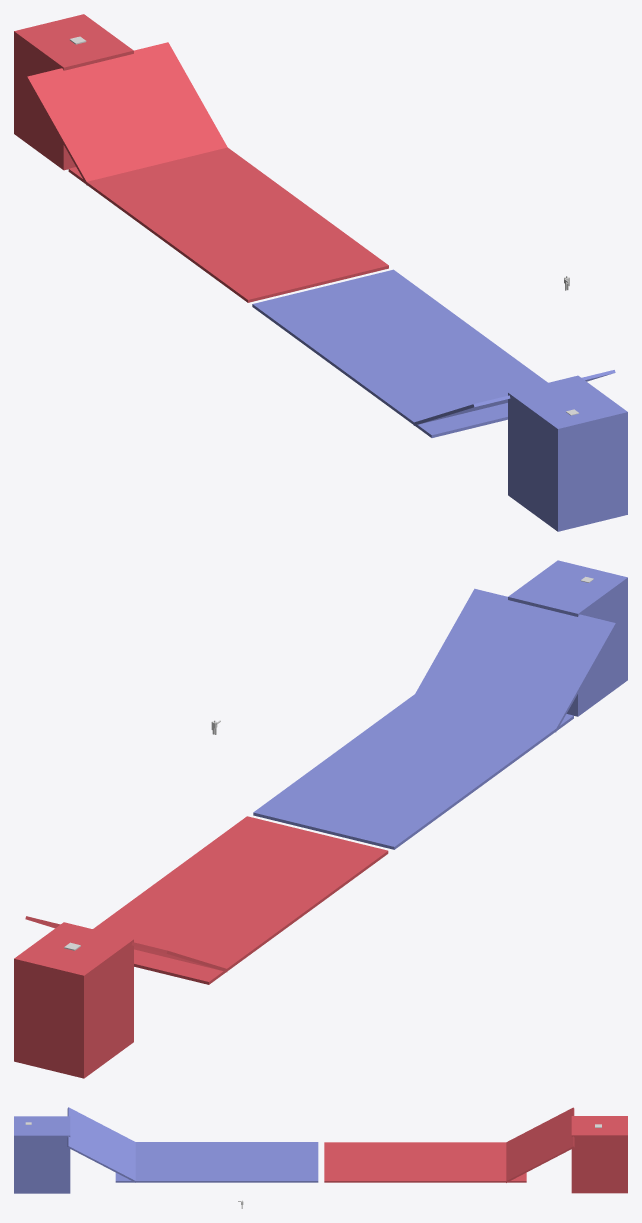
Rendered from LevelTower.gltf.
3 views of the same model, one above another, from view 1: azimuth 30°, elevation 25°; view 2: azimuth 150°, elevation 25°; view 3: azimuth 270°, elevation 25° (orthographic). The views are drawn at different scales.
Parts seen in each view (by area): view 1: Ground2, Ground3, Ground4, Cube.005, Cube.004, Ground; view 2: Ground3, Ground2, Ground, Cube.004, Cube.005, Ground4; view 3: Ground2, Ground3, Cube.005, Cube.004, Ground4, Ground.
Part boxes in pixels (<box>): Ground2: <box>252,269,547,437</box>; Ground3: <box>68,147,388,302</box>; Ground4: <box>26,42,227,185</box>; Cube.005: <box>508,375,627,531</box>; Cube.004: <box>14,14,133,170</box>; Ground: <box>413,370,615,425</box>; Ground3: <box>93,816,388,984</box>; Ground2: <box>253,694,573,849</box>; Ground: <box>415,588,616,732</box>; Cube.004: <box>14,922,133,1078</box>; Cube.005: <box>508,560,627,716</box>; Ground4: <box>25,916,227,971</box>; Ground2: <box>115,1142,318,1182</box>; Ground3: <box>324,1142,526,1182</box>; Cube.005: <box>14,1116,70,1193</box>; Cube.004: <box>571,1116,627,1193</box>; Ground4: <box>506,1107,574,1182</box>; Ground: <box>67,1107,135,1180</box>.
Bounding box in the file's own units: 177 × 70.37 × 667.
